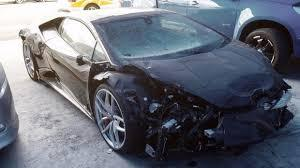bonnet-dent: (165, 60, 279, 105)
fender-dent: (101, 68, 172, 108)
